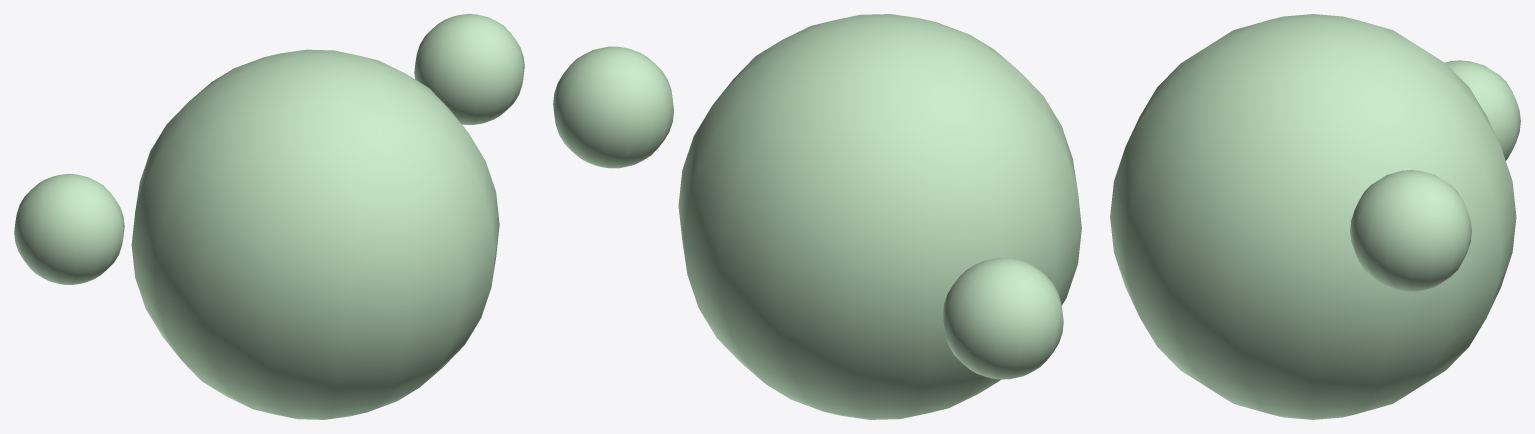
File: actor_civil.fbx
3 views of the same model, side by side, from view 1: azimuth 30°, elevation 25°; view 2: azimuth 150°, elevation 25°; view 3: azimuth 270°, elevation 25° (orthographic). The views are drawn at different scales.
Visible parts, largest first — view 1: Sphere, Sphere.002, Sphere.001; view 2: Sphere, Sphere.001, Sphere.002; view 3: Sphere, Sphere.001, Sphere.002.
Boxes of the visible parts, left/top/right/bottom form: Sphere: left=131, top=49, right=499, bottom=419; Sphere.002: left=14, top=174, right=124, bottom=284; Sphere.001: left=414, top=14, right=524, bottom=124; Sphere: left=678, top=14, right=1081, bottom=419; Sphere.001: left=553, top=46, right=673, bottom=168; Sphere.002: left=942, top=257, right=1063, bottom=379; Sphere: left=1110, top=14, right=1516, bottom=419; Sphere.001: left=1350, top=170, right=1471, bottom=291; Sphere.002: left=1445, top=60, right=1520, bottom=160.
Bounding box in the file's own units: 2.95 × 2 × 2.02.
